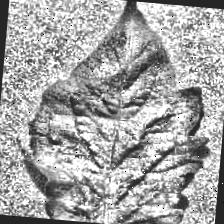spider mites: (11, 0, 219, 224)
